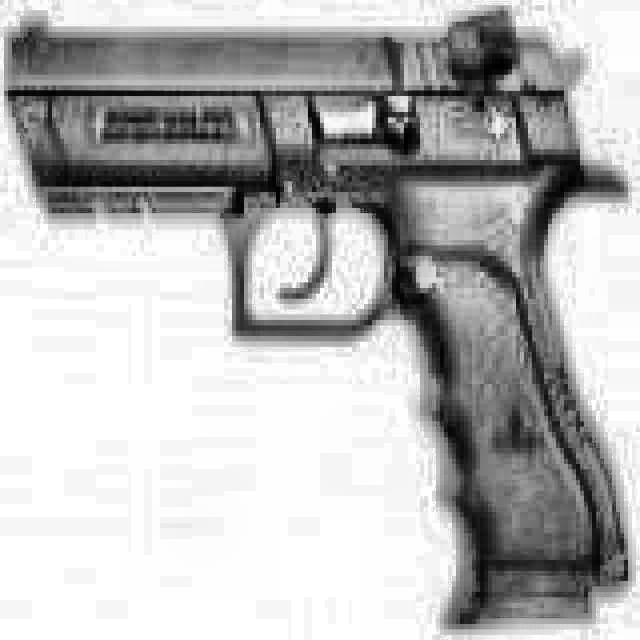pistol: (2, 6, 640, 628)
